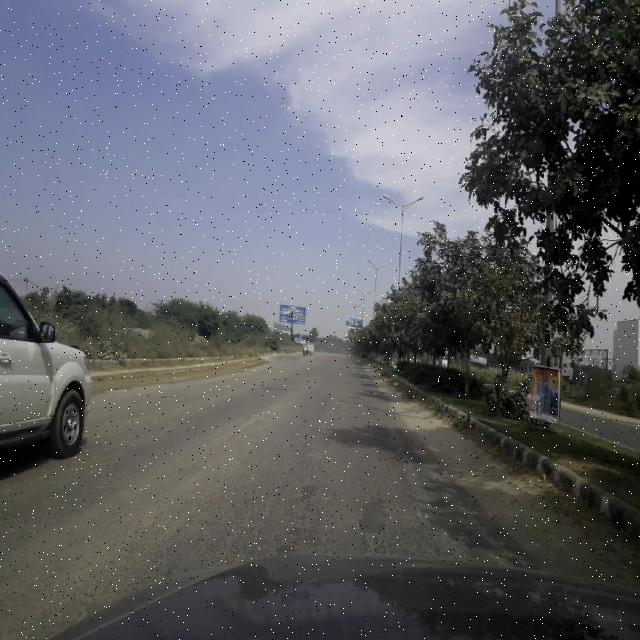D20: (34, 434, 490, 600)
